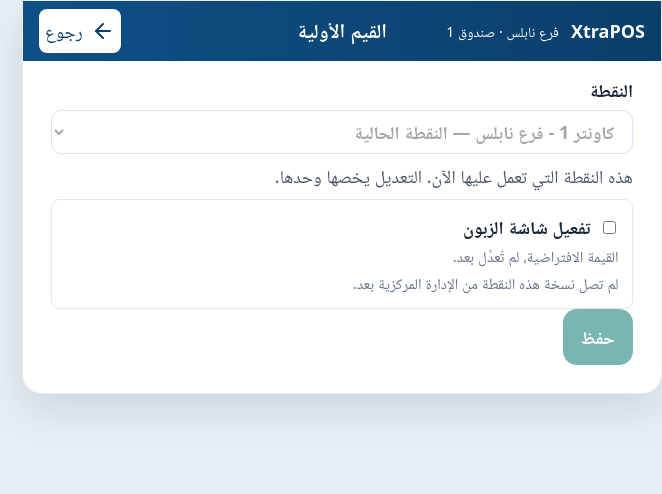
Test: DeviceInitialValuesScreen › opens on the current point and saves it through the relay log
This screenshot has width=662, height=494.
Expected: the dropdown shows "كاونتر 1 - فرع نابلس — النقطة الحالية", [51,110,633,154]
Expected: the dropdown is disabled, [51,110,633,154]
Click the checkbox labelled "تفعيل شاشة الزبون" at (609, 227), box [602,221,616,234]
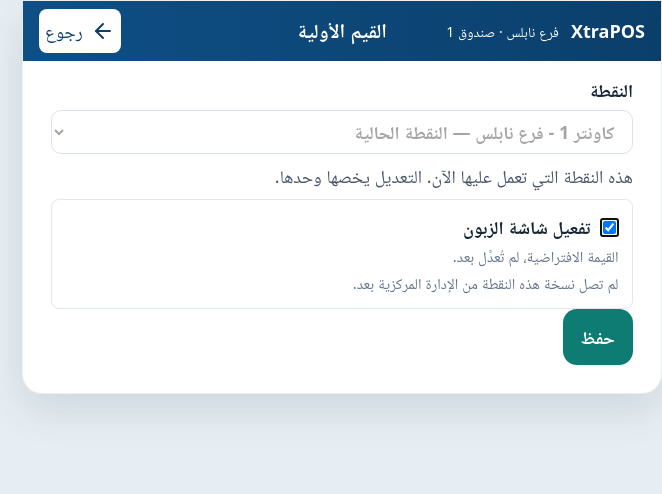
Click the button "حفظ" at (598, 337), box [563,309,633,365]
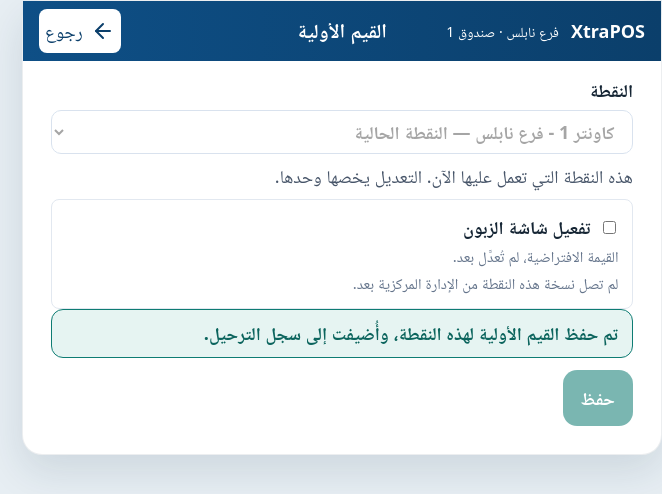
Expected: the text "تم حفظ القيم الأولية لهذه النقطة، وأُضيفت إلى سجل الترحيل." is shown, [51,309,633,358]
